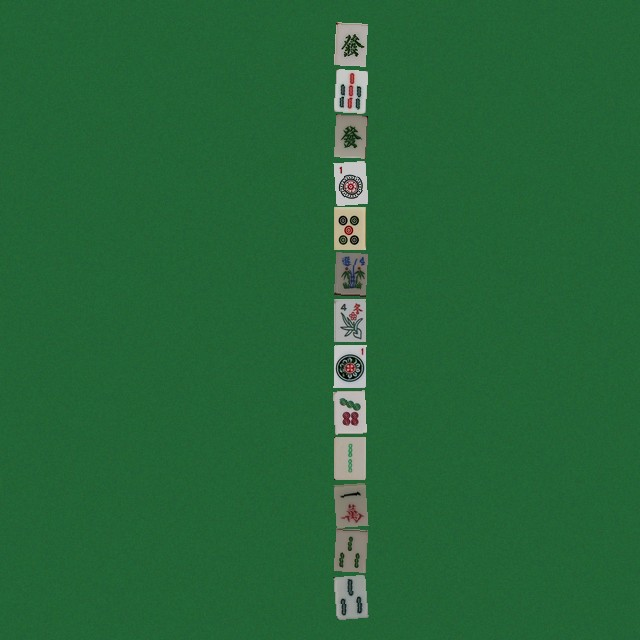tile: (333, 22, 365, 65), (333, 68, 365, 111), (333, 114, 365, 157), (333, 160, 365, 203), (333, 206, 365, 249), (333, 252, 365, 295), (333, 298, 365, 341), (333, 344, 365, 387), (333, 390, 365, 433), (333, 436, 365, 479), (333, 482, 365, 525), (333, 528, 365, 571), (333, 574, 365, 617)
